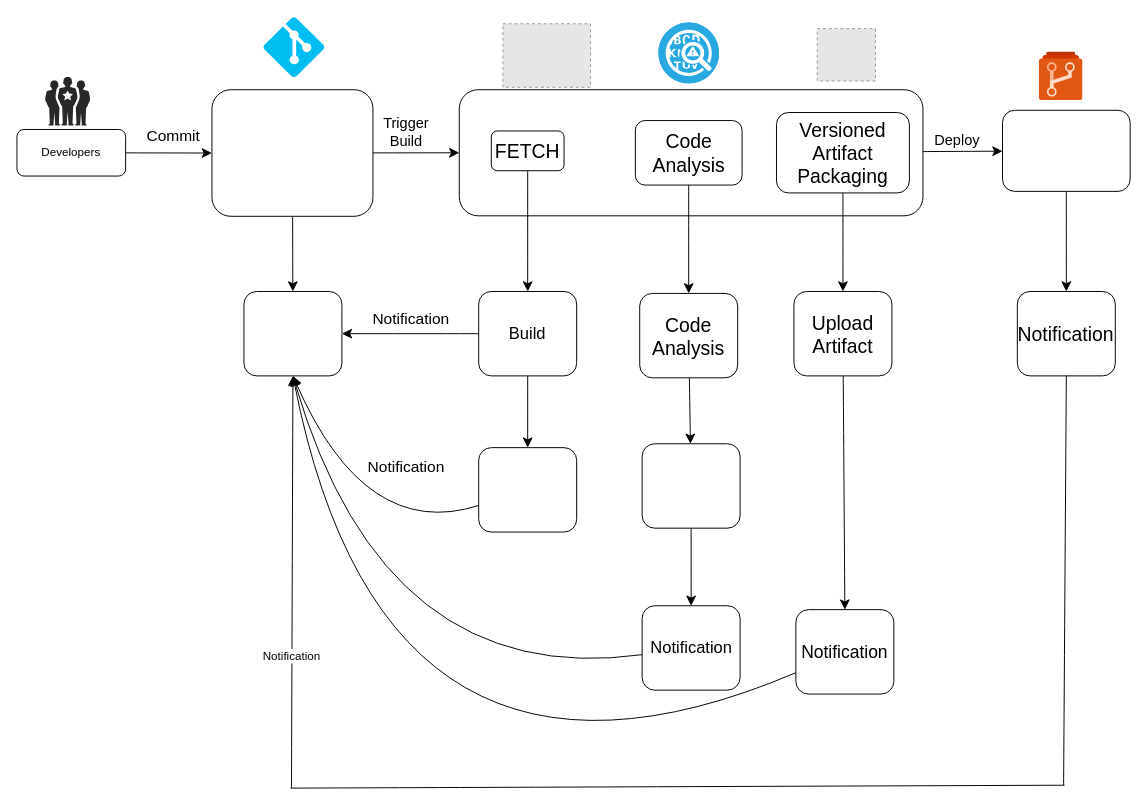
This 1148x805 diagram has some shape labels left out. Grey dashed boxes stand in for pictures. Here are the shapes that lost their labels. From the top down, the centre of each, then its label:
(x=292, y=152): Source Code Management (SCM)
(x=1066, y=150): Artifact Repository
(x=292, y=333): Slack
(x=527, y=489): Unit testing
(x=690, y=485): Quality Gates
